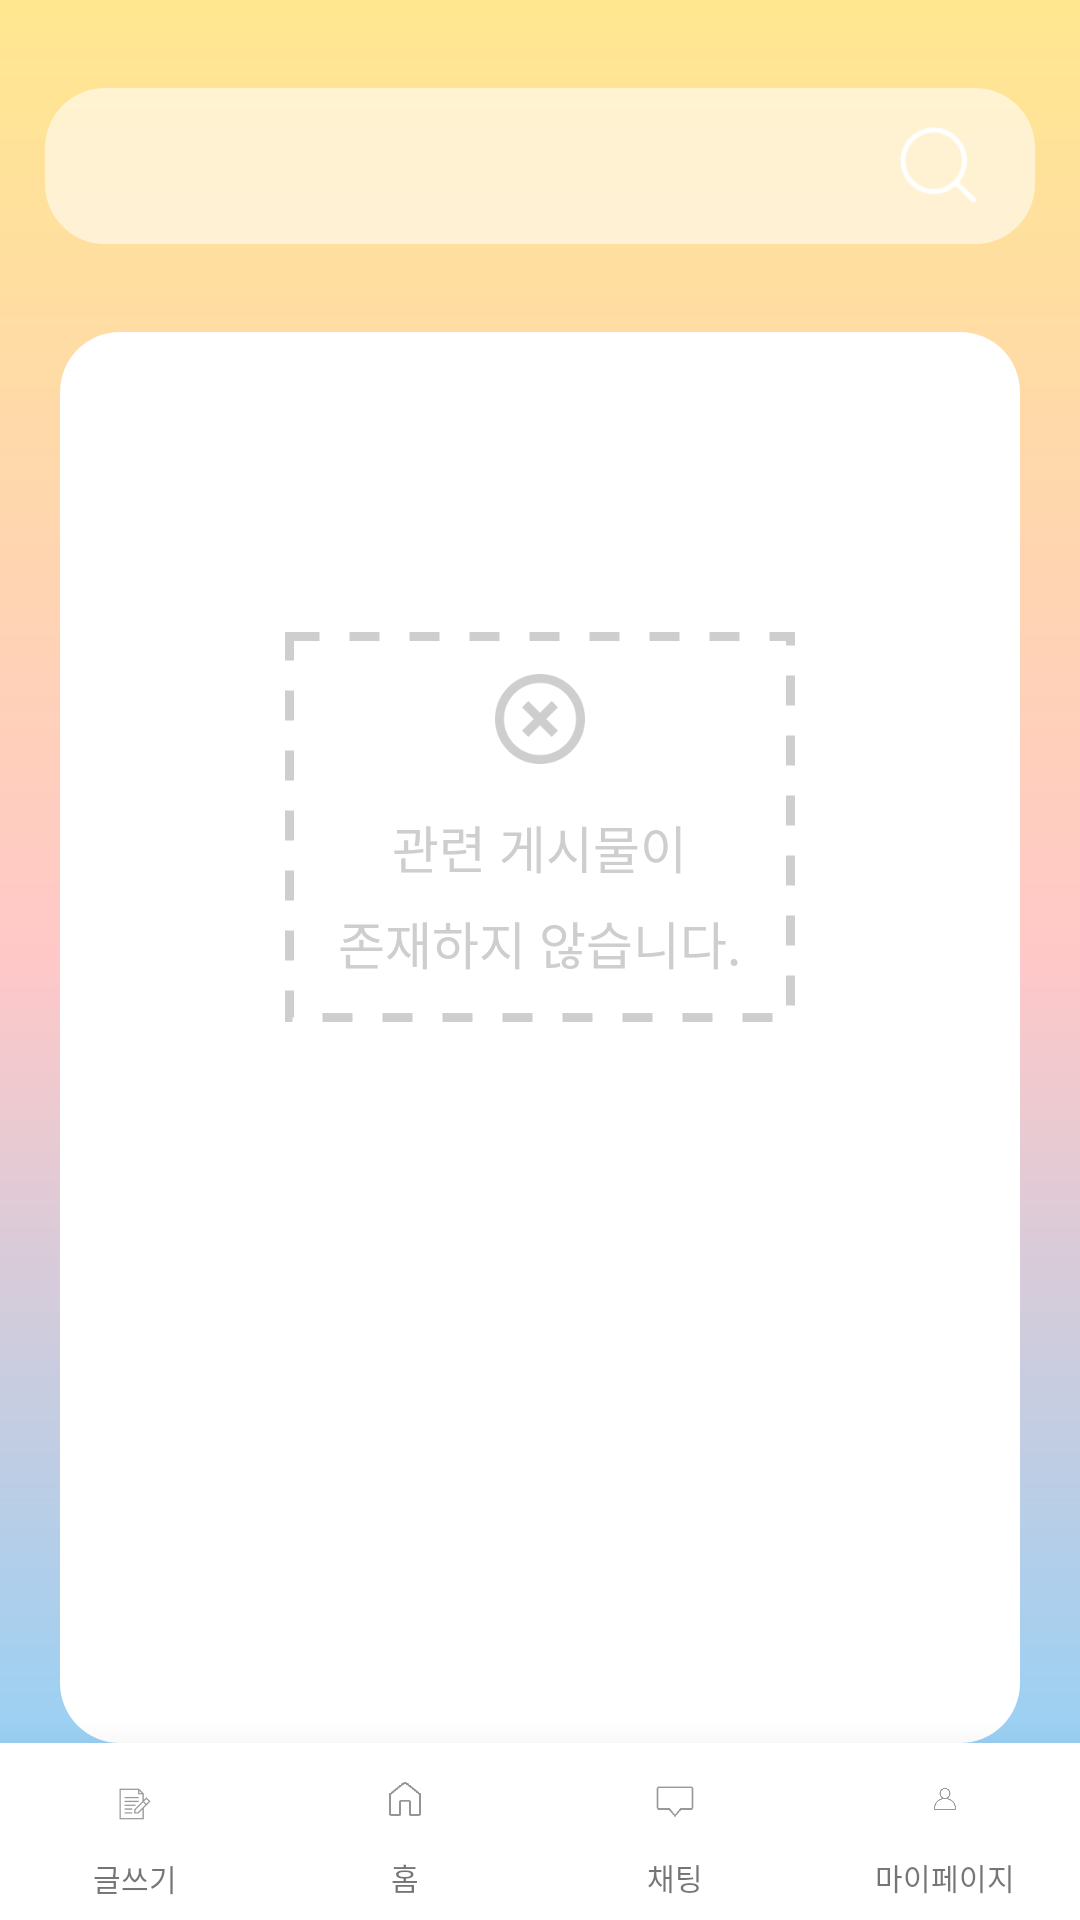

Named icons in this screenshot (1080×1920) and their bounding boxes, (x1, y1, x2, y2):
chat: (656, 1786, 694, 1817)
contract: (119, 1788, 150, 1820)
house: (389, 1782, 421, 1816)
no search: (495, 674, 585, 764)
